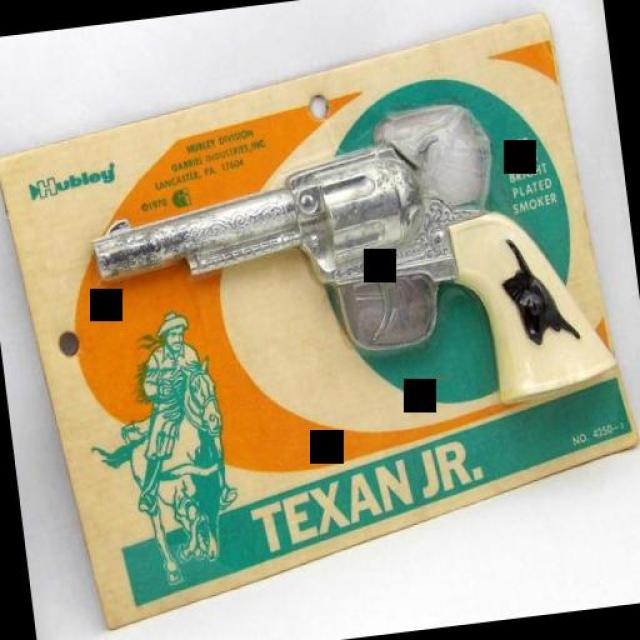gun: (79, 108, 620, 452)
